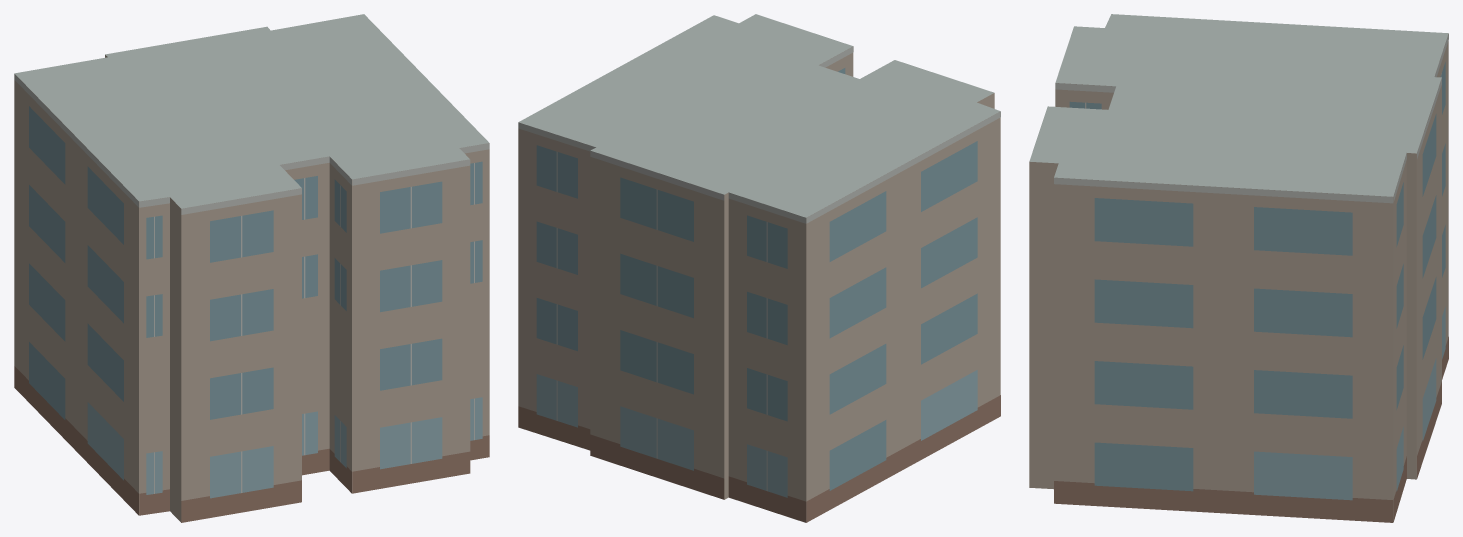
File: survey-upis-32975813.glb
The picture shows the model from 3 angles, left to right: view 1: azimuth 30°, elevation 25°; view 2: azimuth 150°, elevation 25°; view 3: azimuth 270°, elevation 25°; orthographic projection. The views are drawn at different scales.
Visible parts, largest first — view 1: survey-upis-32975813.tmp; view 2: survey-upis-32975813.tmp; view 3: survey-upis-32975813.tmp.
Boxes of the visible parts, <box> form: survey-upis-32975813.tmp: <box>14,14,489,522</box>; survey-upis-32975813.tmp: <box>518,14,1000,522</box>; survey-upis-32975813.tmp: <box>1029,14,1448,522</box>.
Size of the model in its own units: 14.64 by 12.17 by 14.2.
